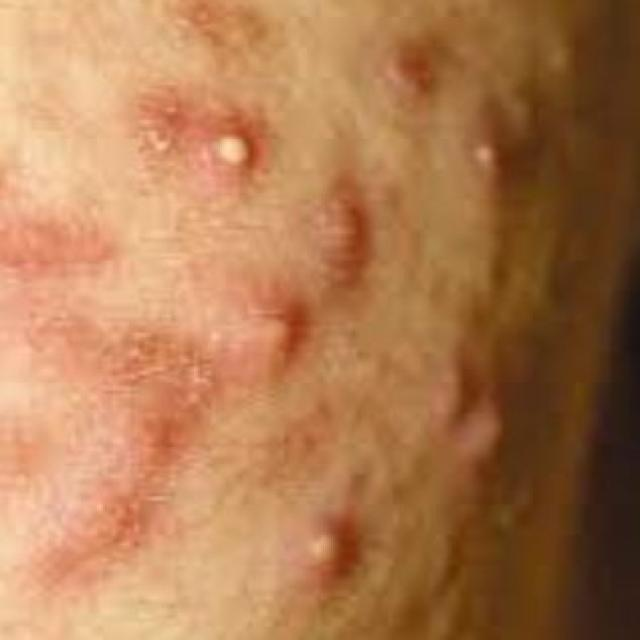pustule: (233, 484, 393, 624), (432, 101, 575, 208), (167, 99, 302, 211)
